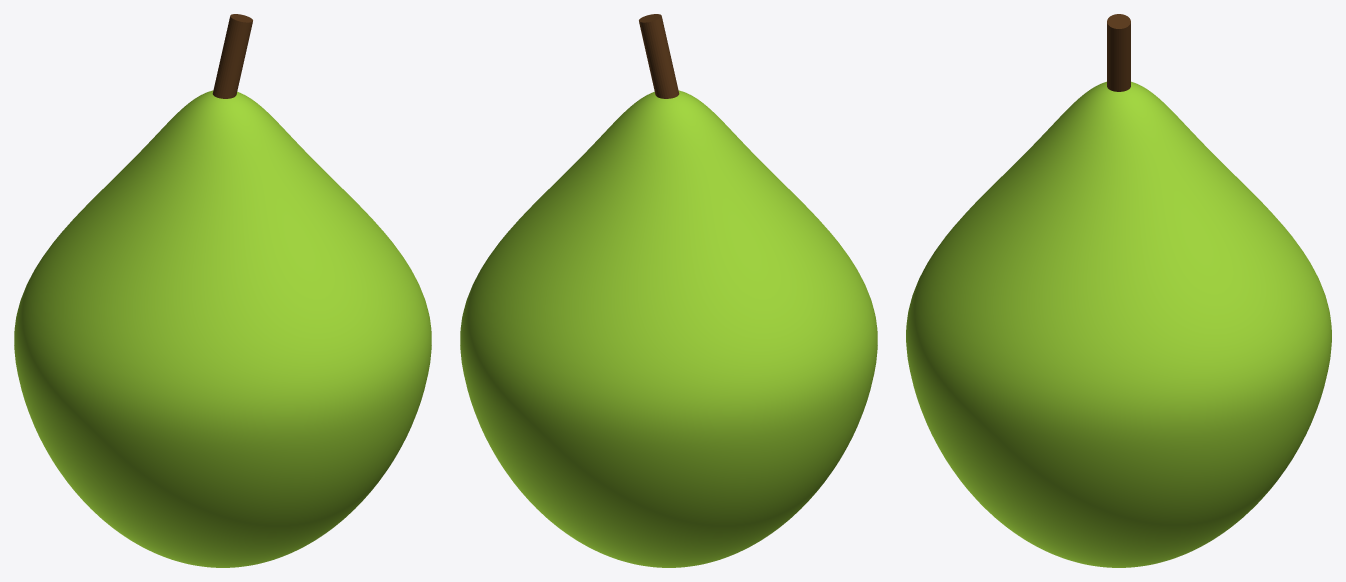
The model's file is pera.glb.
The picture shows the model from 3 angles, left to right: view 1: azimuth 30°, elevation 25°; view 2: azimuth 150°, elevation 25°; view 3: azimuth 270°, elevation 25°; orthographic projection.
Parts seen in each view (by area): view 1: pera, Cylinder; view 2: pera, Cylinder; view 3: pera, Cylinder.
Part boxes in pixels (<box>): pera: <box>14,90,431,567</box>; Cylinder: <box>212,14,252,98</box>; pera: <box>460,90,877,567</box>; Cylinder: <box>639,14,679,98</box>; pera: <box>906,81,1331,567</box>; Cylinder: <box>1107,14,1130,91</box>.
Size of the model in its own units: 2.13 by 3.01 by 2.13.
